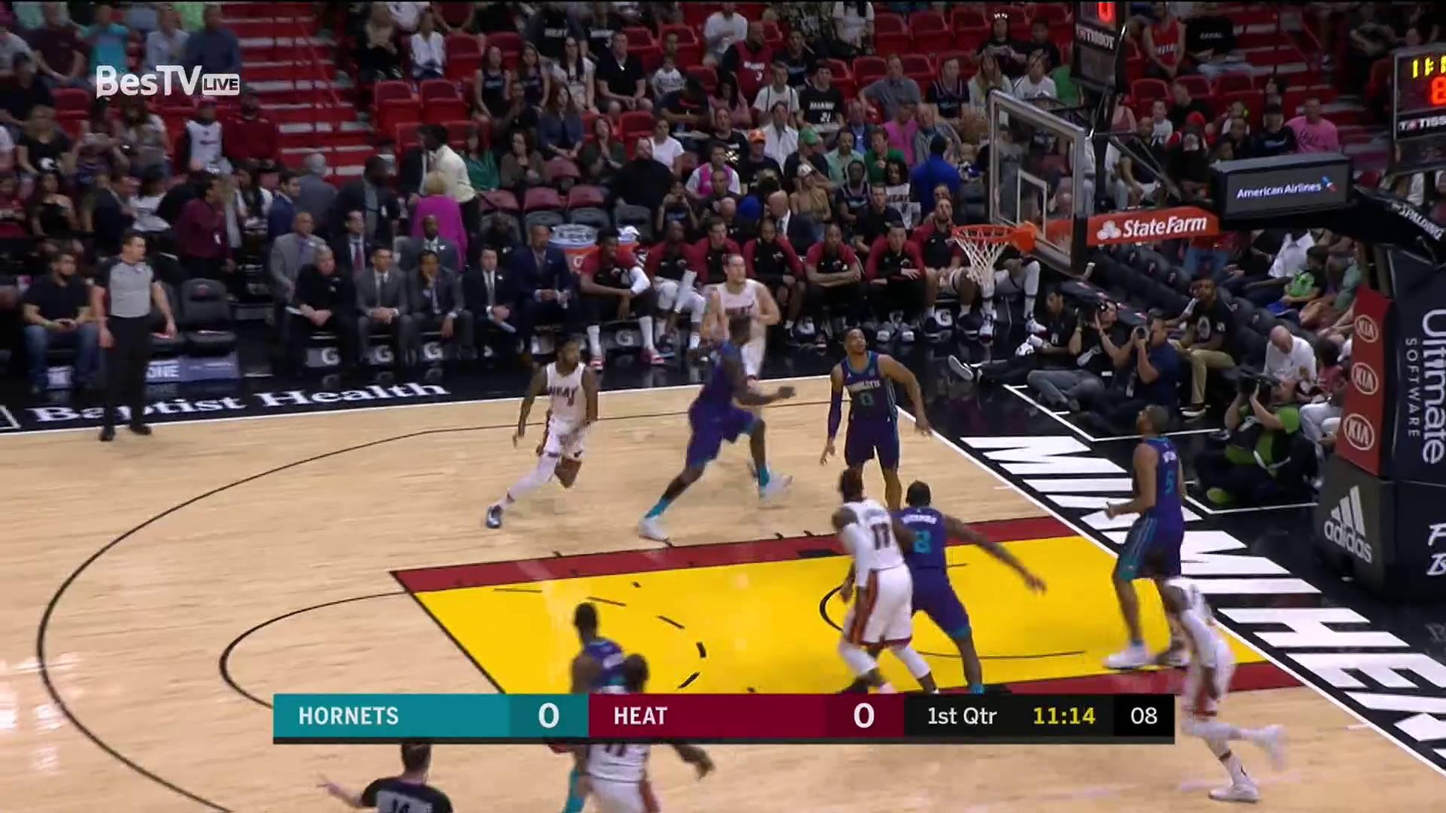basketball: (953, 104, 992, 140)
